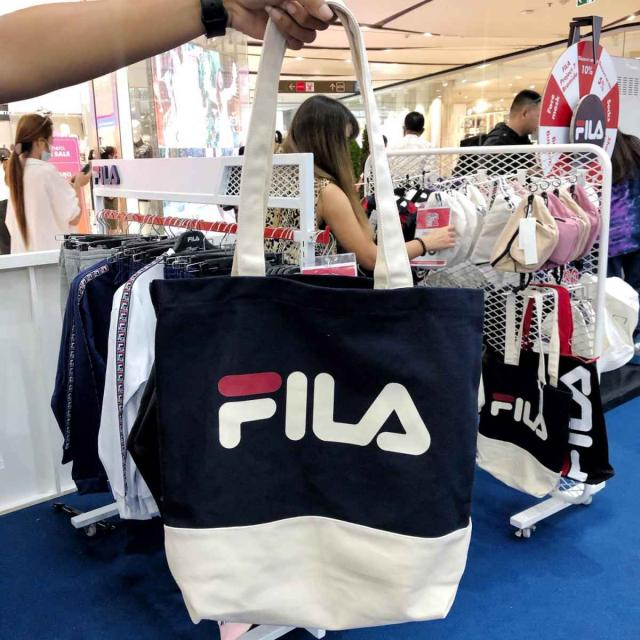handbag: (130, 263, 493, 640)
